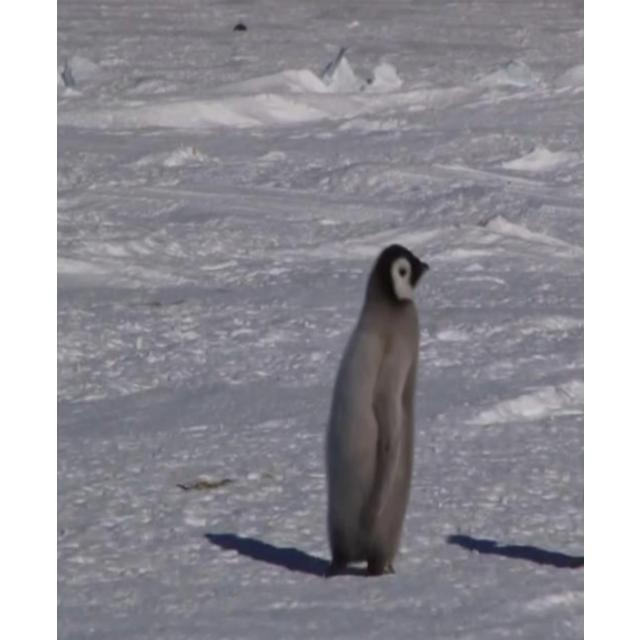penguin: (323, 245, 431, 580)
